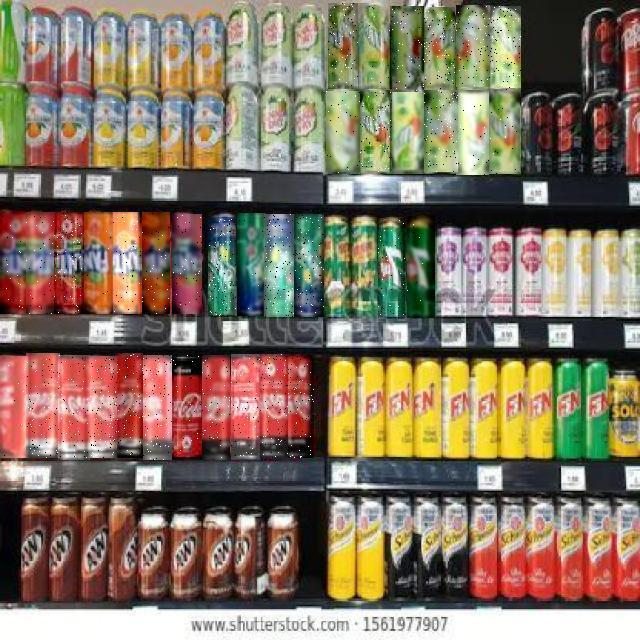Drinks: (26, 353, 60, 458), (58, 355, 90, 460), (172, 355, 202, 460), (294, 214, 324, 317), (264, 214, 294, 317), (231, 354, 260, 460), (54, 212, 84, 314), (84, 212, 114, 314), (143, 355, 172, 460), (208, 212, 237, 316), (172, 214, 202, 314), (237, 213, 266, 316), (202, 355, 230, 460), (115, 353, 143, 458), (390, 6, 424, 92), (359, 3, 393, 89), (288, 354, 316, 458), (260, 354, 288, 458), (89, 357, 117, 459), (407, 217, 435, 319), (0, 356, 28, 458), (26, 212, 54, 314), (114, 212, 142, 314), (142, 212, 170, 314), (379, 218, 407, 319), (456, 90, 489, 175), (424, 90, 458, 172), (326, 92, 360, 174), (456, 5, 490, 87), (488, 89, 520, 174), (391, 92, 424, 174), (359, 91, 392, 173), (488, 7, 521, 89), (422, 8, 455, 90), (0, 211, 26, 314), (328, 3, 358, 89)
